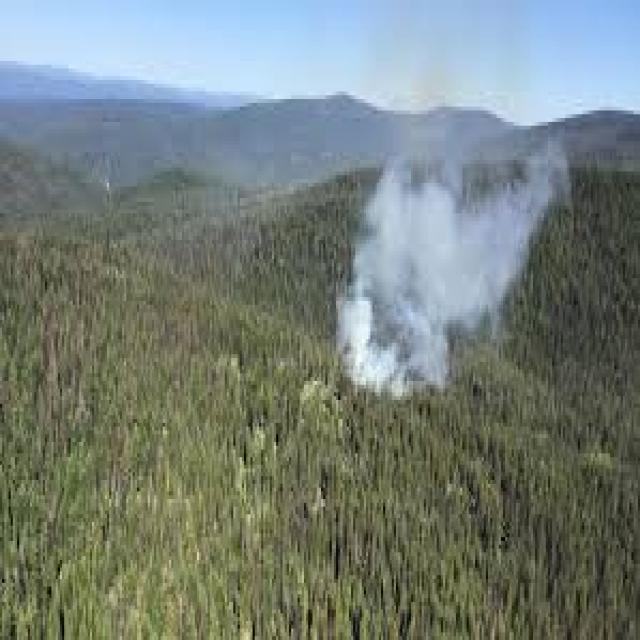Smoke: (326, 126, 572, 402)
